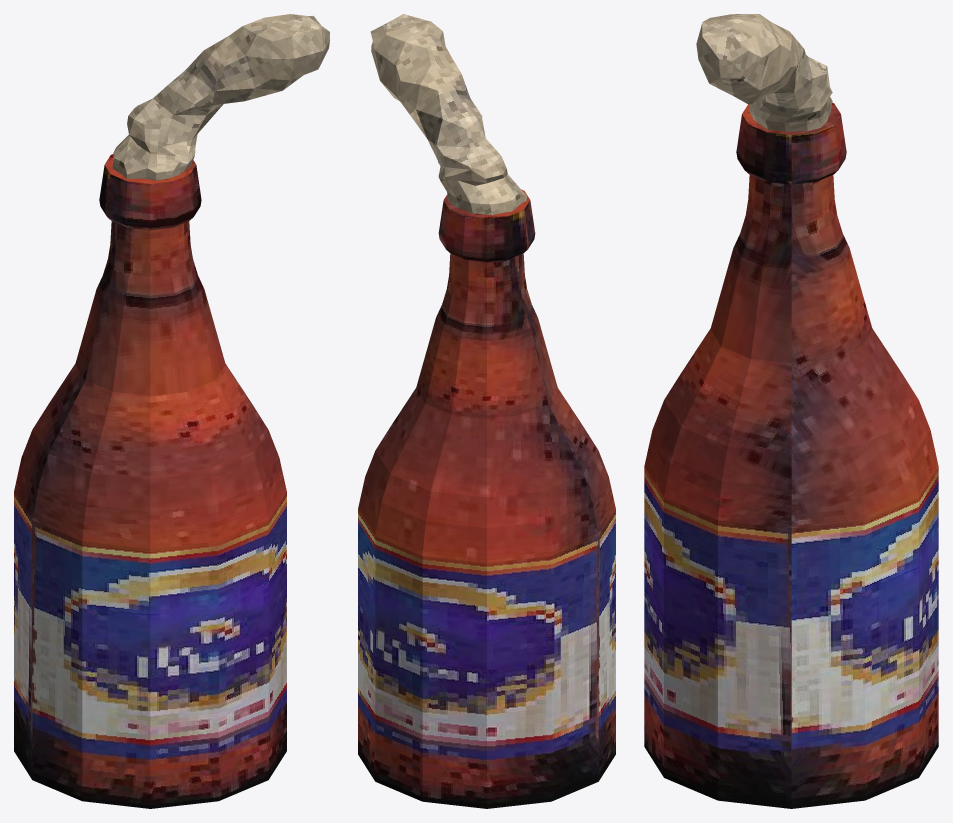
Rendered from shop-item-1081.glb.
3 views of the same model, side by side, from view 1: azimuth 30°, elevation 25°; view 2: azimuth 150°, elevation 25°; view 3: azimuth 270°, elevation 25° (orthographic). The views are drawn at different scales.
Visible parts, largest first — view 1: glass, cloth; view 2: glass, cloth; view 3: glass, cloth.
Boxes of the visible parts, x1,y1,x2,y2 form: glass: [14, 154, 286, 808]; cloth: [112, 14, 329, 180]; glass: [358, 190, 615, 808]; cloth: [370, 14, 527, 215]; glass: [644, 103, 938, 808]; cloth: [696, 14, 832, 131].
Size of the model in its own units: 0.0679 by 0.1777 by 0.0607.
1 material, 1 textured.
